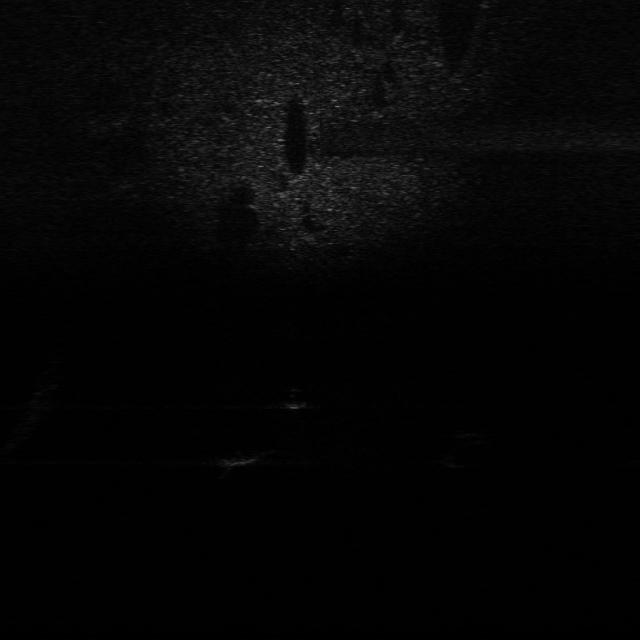ball: (277, 384, 317, 412)
square cage: (217, 442, 267, 468)
tyre: (441, 428, 497, 470)
